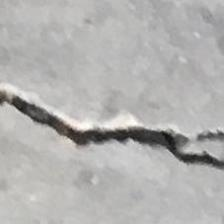Crack: (0, 74, 224, 178)
